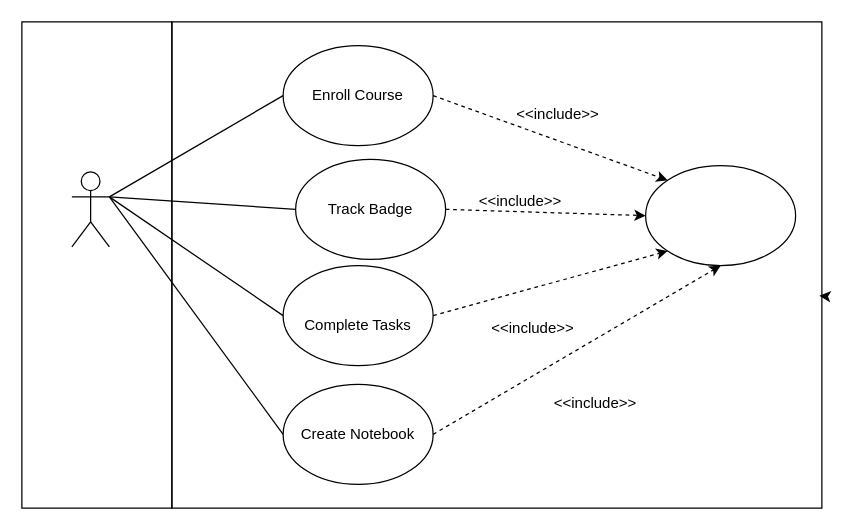
Some shapes in this 854 by 530 pixel diagram are drawn without their labels. Here are the shapes that lost their labels. From the top down, the centre of each, then its label:
At (x=90, y=209): "Student".
At (x=720, y=215): "Login".
